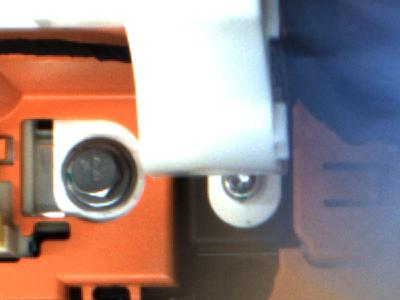nut_b: (58, 141, 137, 211)
